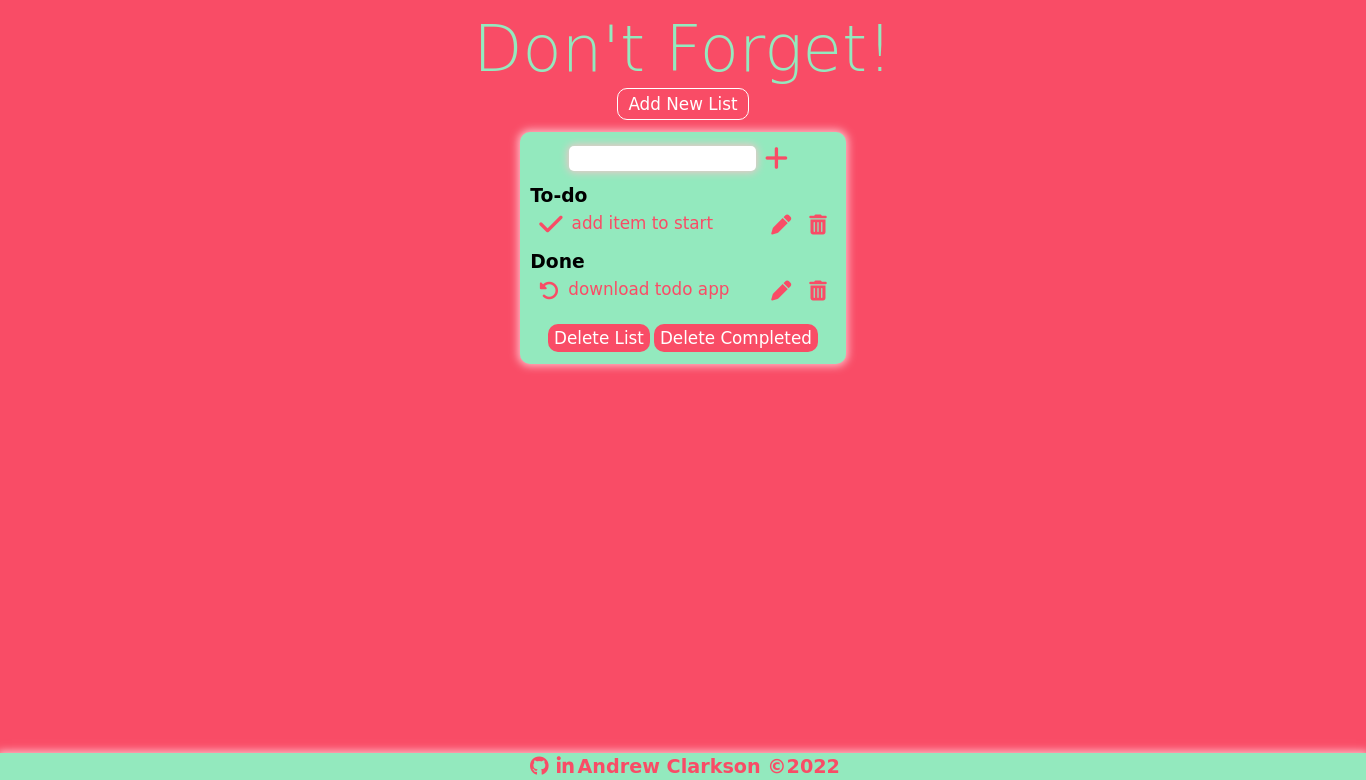
Test case: single todo list testing › can delete item from done
Click the button with test id ".donelist [data-cy=\"deleteButton\"]" at (818, 291), box [802,276,834,305]
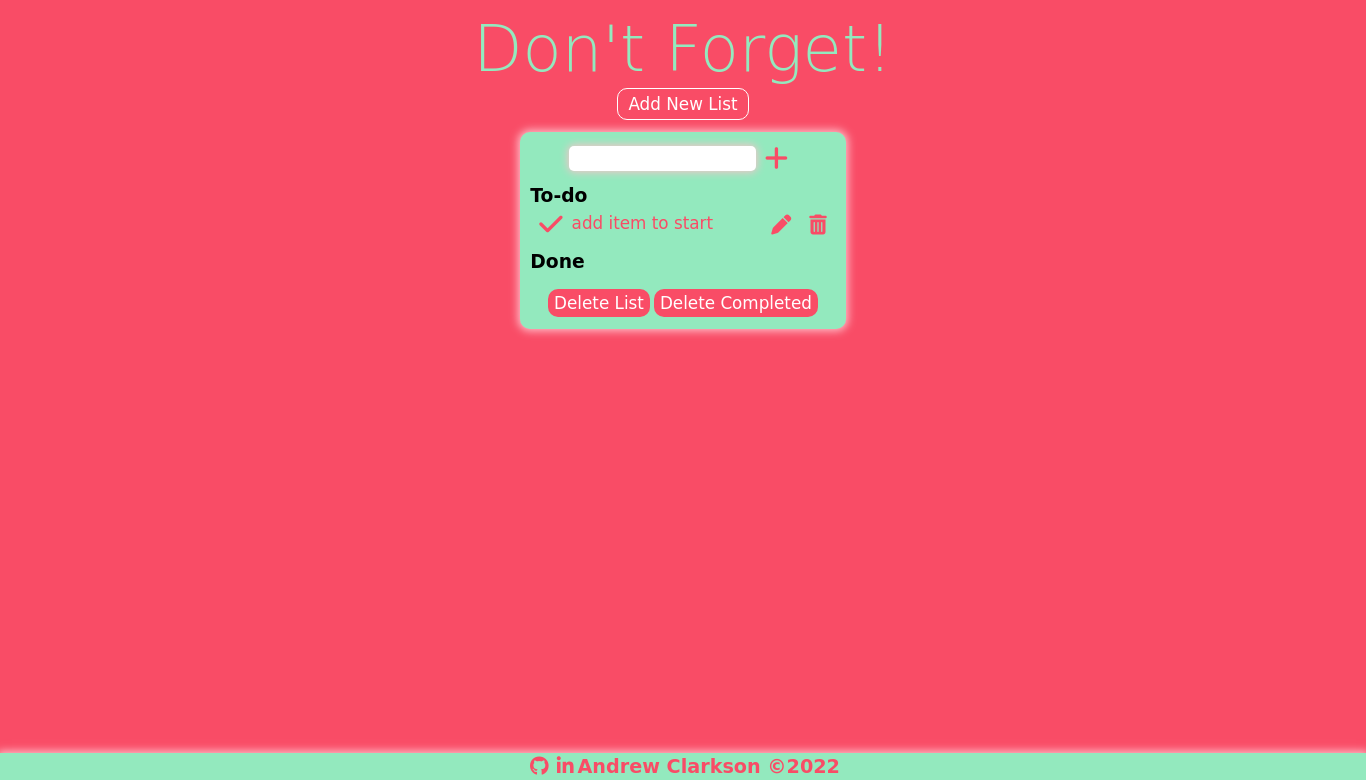
Expected: the list item "download todo app" is gone
Expected: the number of list items is 1, [530,208,835,241]
